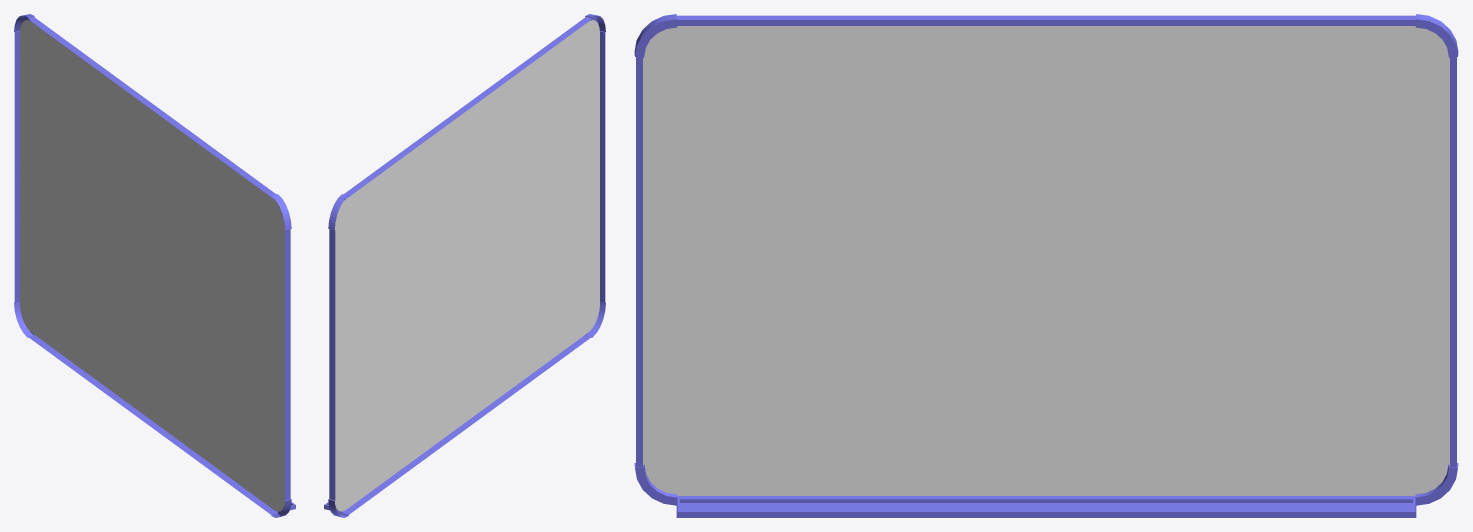
Rendered from board.fbx.
3 renders of one model, left to right at view 1: azimuth 30°, elevation 25°; view 2: azimuth 150°, elevation 25°; view 3: azimuth 270°, elevation 25°, orthographic. The views are drawn at different scales.
Parts seen in each view (by area): view 1: Rim; view 2: Rim; view 3: Rim.
Boxes of the visible parts, x1,y1,x2,y2 form: Rim: (14, 14, 295, 517); Rim: (324, 14, 605, 517); Rim: (634, 14, 1458, 517).
Bounding box in the file's own units: 1057 × 13100 × 20081.
2 materials, 2 textured.
